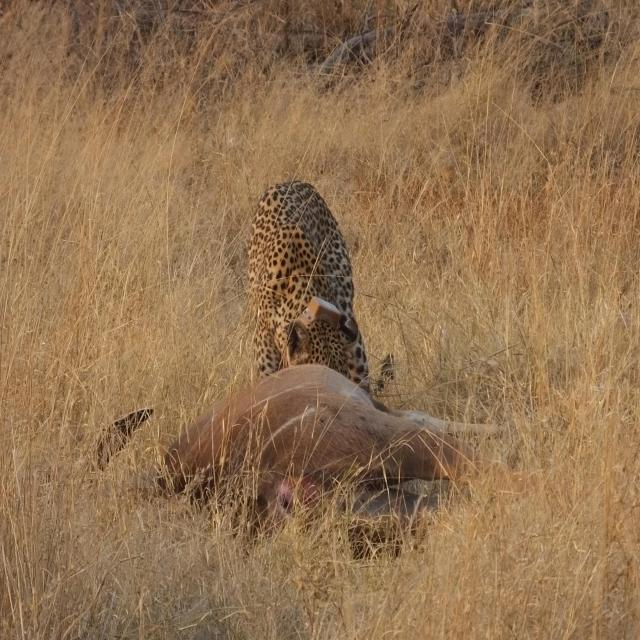Leopard: (243, 180, 391, 403)
